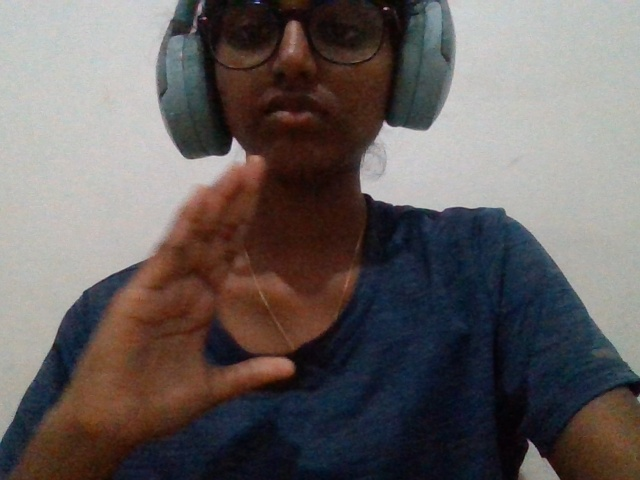Fine: (49, 124, 309, 451)
